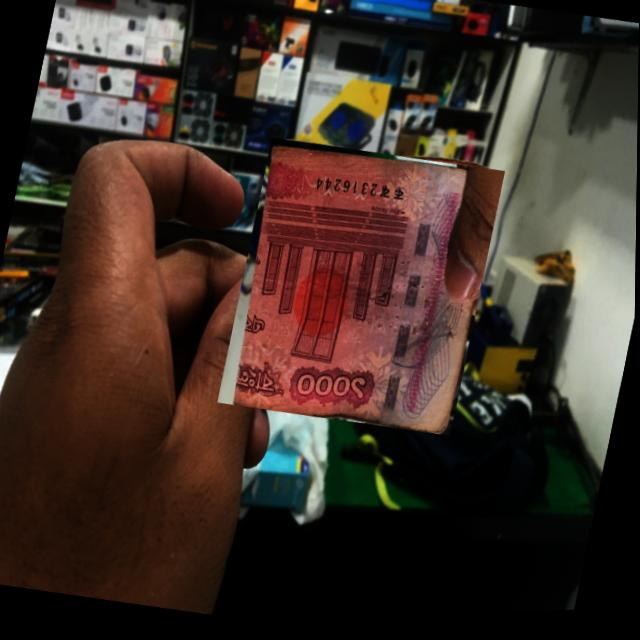Taka: (218, 132, 507, 450)
